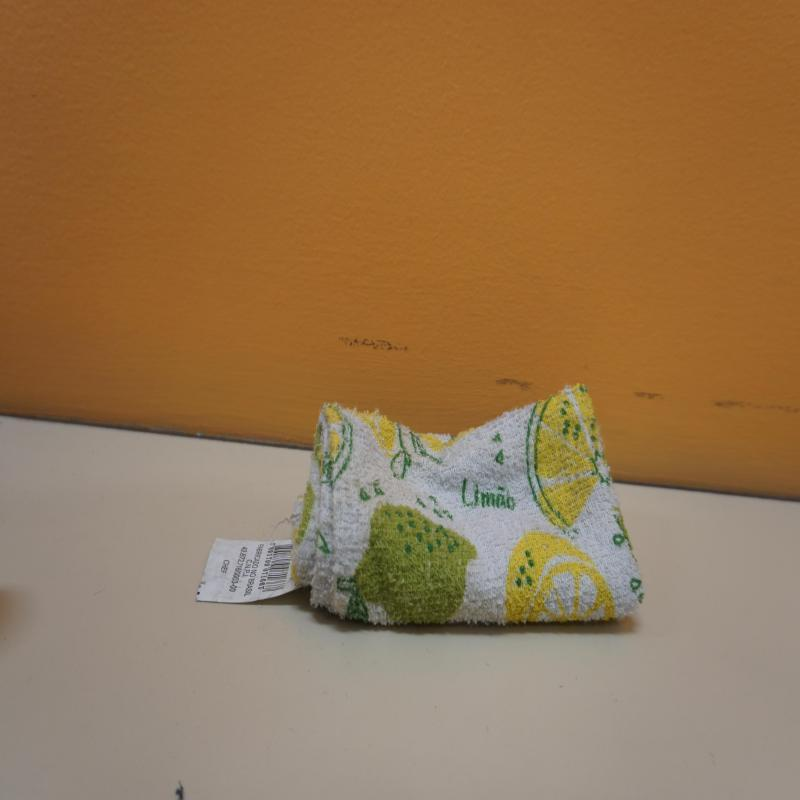Cloth: (196, 384, 645, 633)
